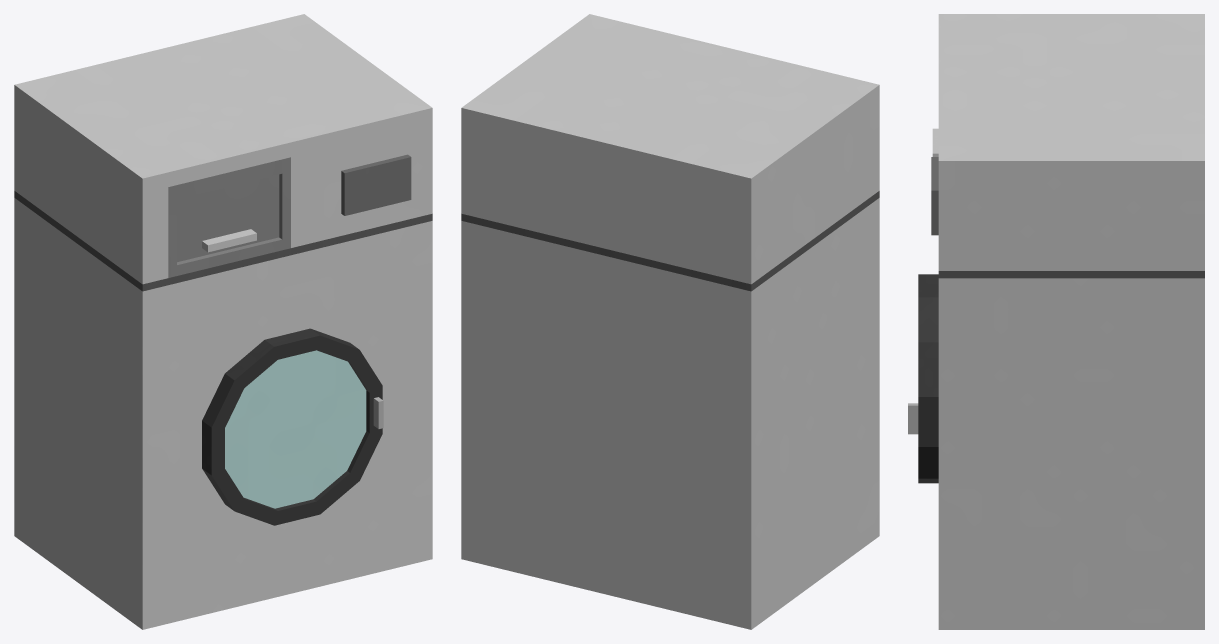
The model's file is Washing_Machine.fbx.
3 views of the same model, side by side, from view 1: azimuth 30°, elevation 25°; view 2: azimuth 150°, elevation 25°; view 3: azimuth 270°, elevation 25° (orthographic). The views are drawn at different scales.
Visible parts, largest first — view 1: Washing_Machine; view 2: Washing_Machine; view 3: Washing_Machine.
Boxes of the visible parts, x1,y1,x2,y2 form: Washing_Machine: [14, 14, 432, 629]; Washing_Machine: [461, 14, 879, 629]; Washing_Machine: [908, 14, 1204, 629].
Size of the model in its own units: 0.7215 by 1.07 by 0.6156.
